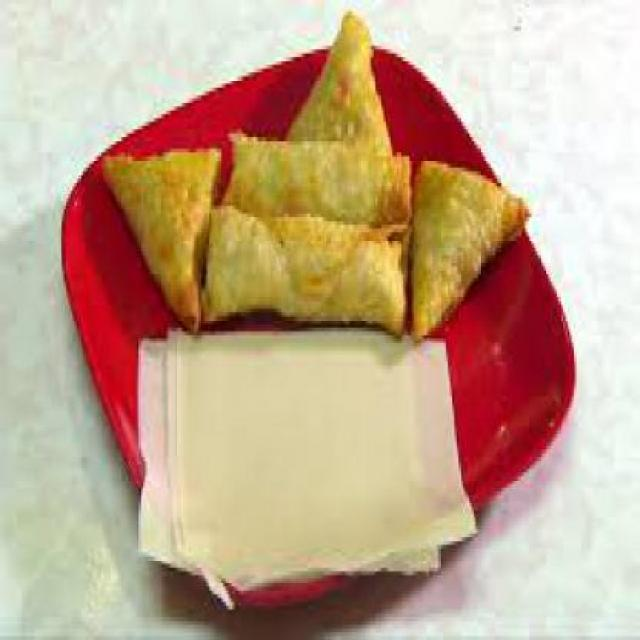samosa: (96, 130, 212, 312), (412, 145, 530, 312), (296, 8, 382, 142)
spring rolls: (216, 126, 407, 328)
